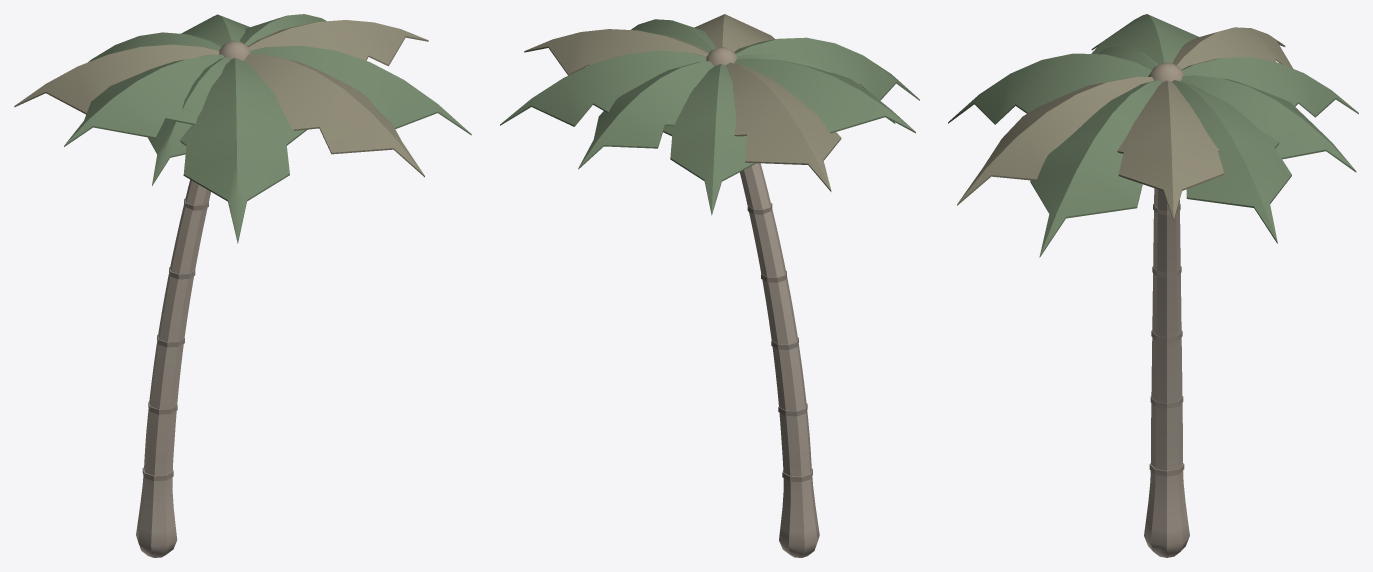
File: palm_a.gltf
3 views of the same model, side by side, from view 1: azimuth 30°, elevation 25°; view 2: azimuth 150°, elevation 25°; view 3: azimuth 270°, elevation 25° (orthographic). The views are drawn at different scales.
Parts seen in each view (by area): view 1: Body; view 2: Body; view 3: Body.
Part boxes in pixels (x1=…): Body: x1=14, y1=14, x2=471, y2=557; Body: x1=500, y1=14, x2=919, y2=557; Body: x1=948, y1=14, x2=1358, y2=557.
Size of the model in its own units: 6.57 by 8.12 by 5.7.
